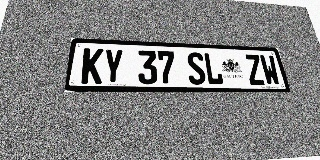3: (138, 50, 157, 84)
7: (157, 51, 177, 84)
K: (81, 48, 104, 84)
L: (203, 53, 224, 85)
S: (186, 52, 207, 85)
W: (259, 55, 281, 85)
Y: (102, 49, 123, 84)
Z: (244, 54, 266, 85)
